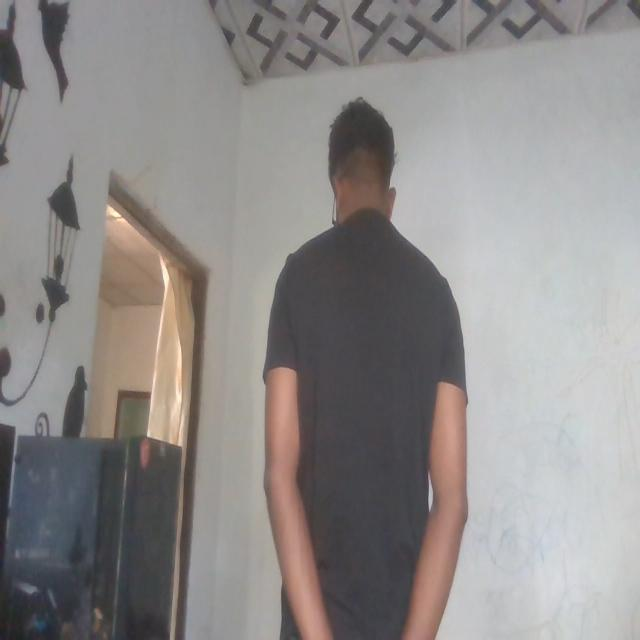Person: (255, 92, 469, 640)
